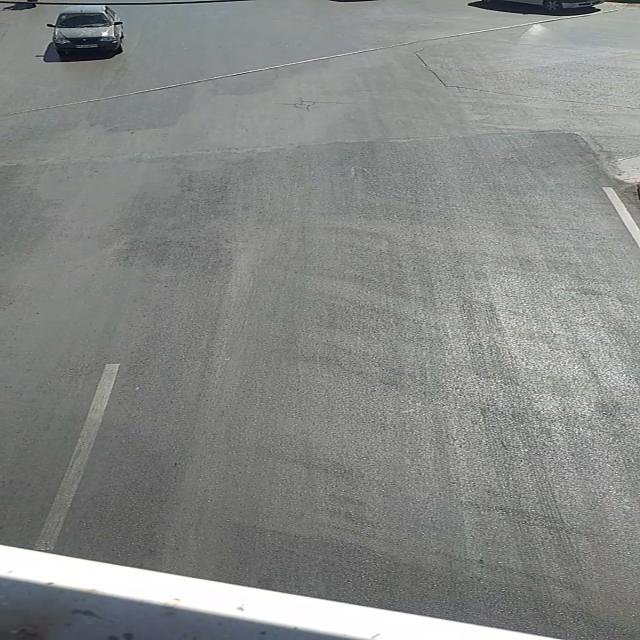car: (48, 6, 125, 52)
